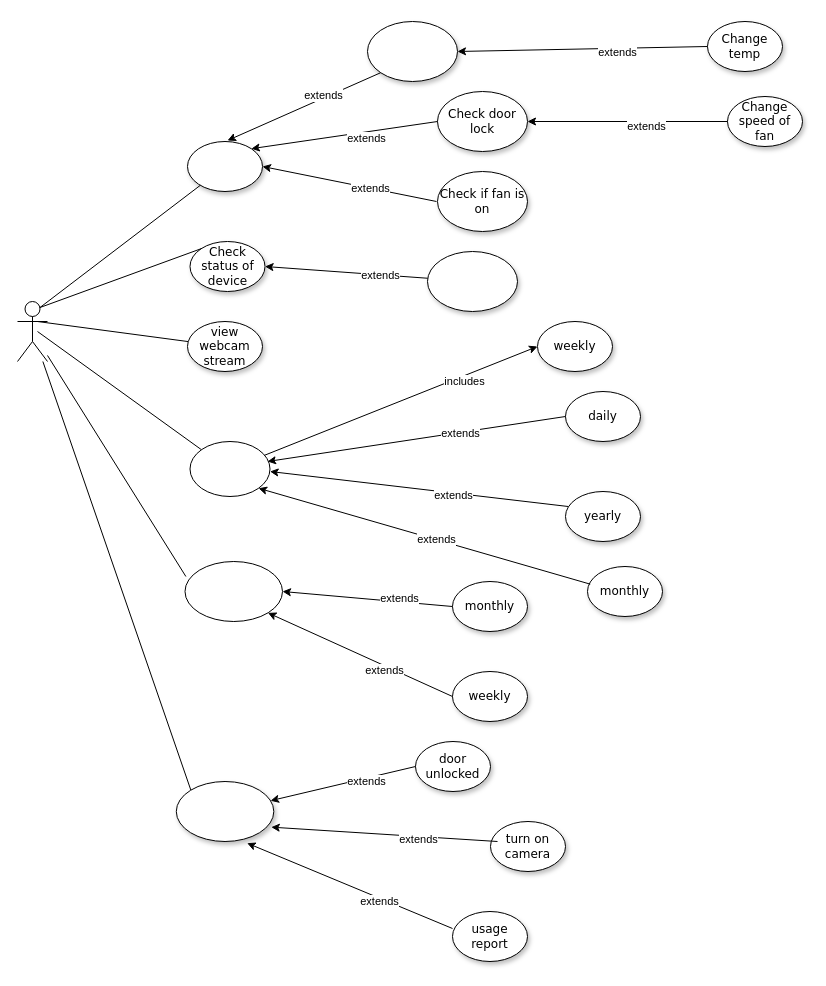
The diagram is 826 pixels wide and 986 high, and some of its shapes have lost their labels. Here are the shapes that lost their labels. From the top down, the centre of each, then its label:
At [413,52]: "Check Temperature".
At [225,167]: "Turn on/off device".
At [473,282]: "Check if bulb is on".
At [32,331]: "Actor".
At [229,468]: "View usage trend(history)".
At [233,591]: "View predicted cost(estimate)".
At [225,812]: "Receive notifications".
